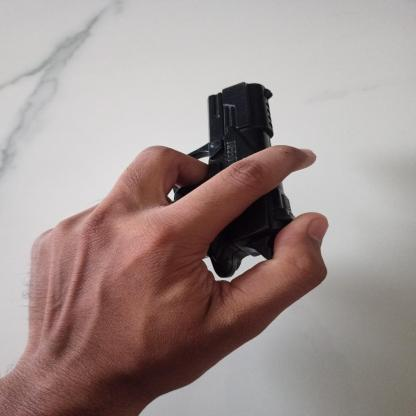handgun: (167, 82, 295, 278)
